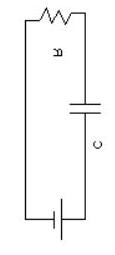Capacitor: (63, 82, 99, 133)
